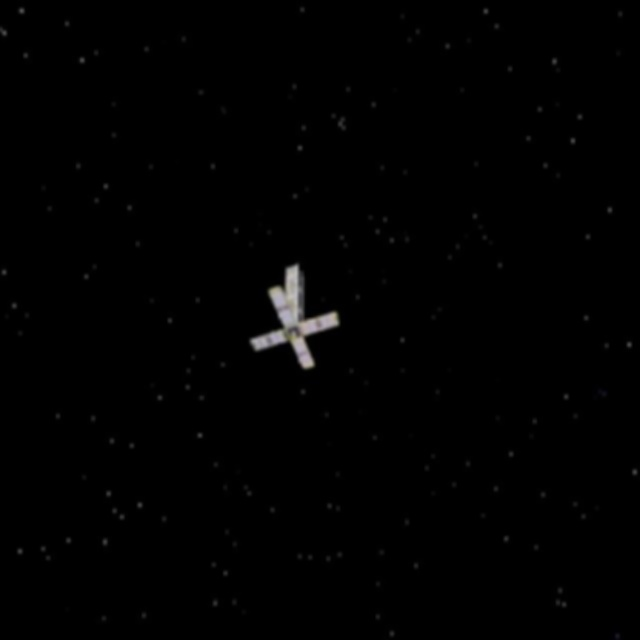satellite: (238, 259, 352, 377)
